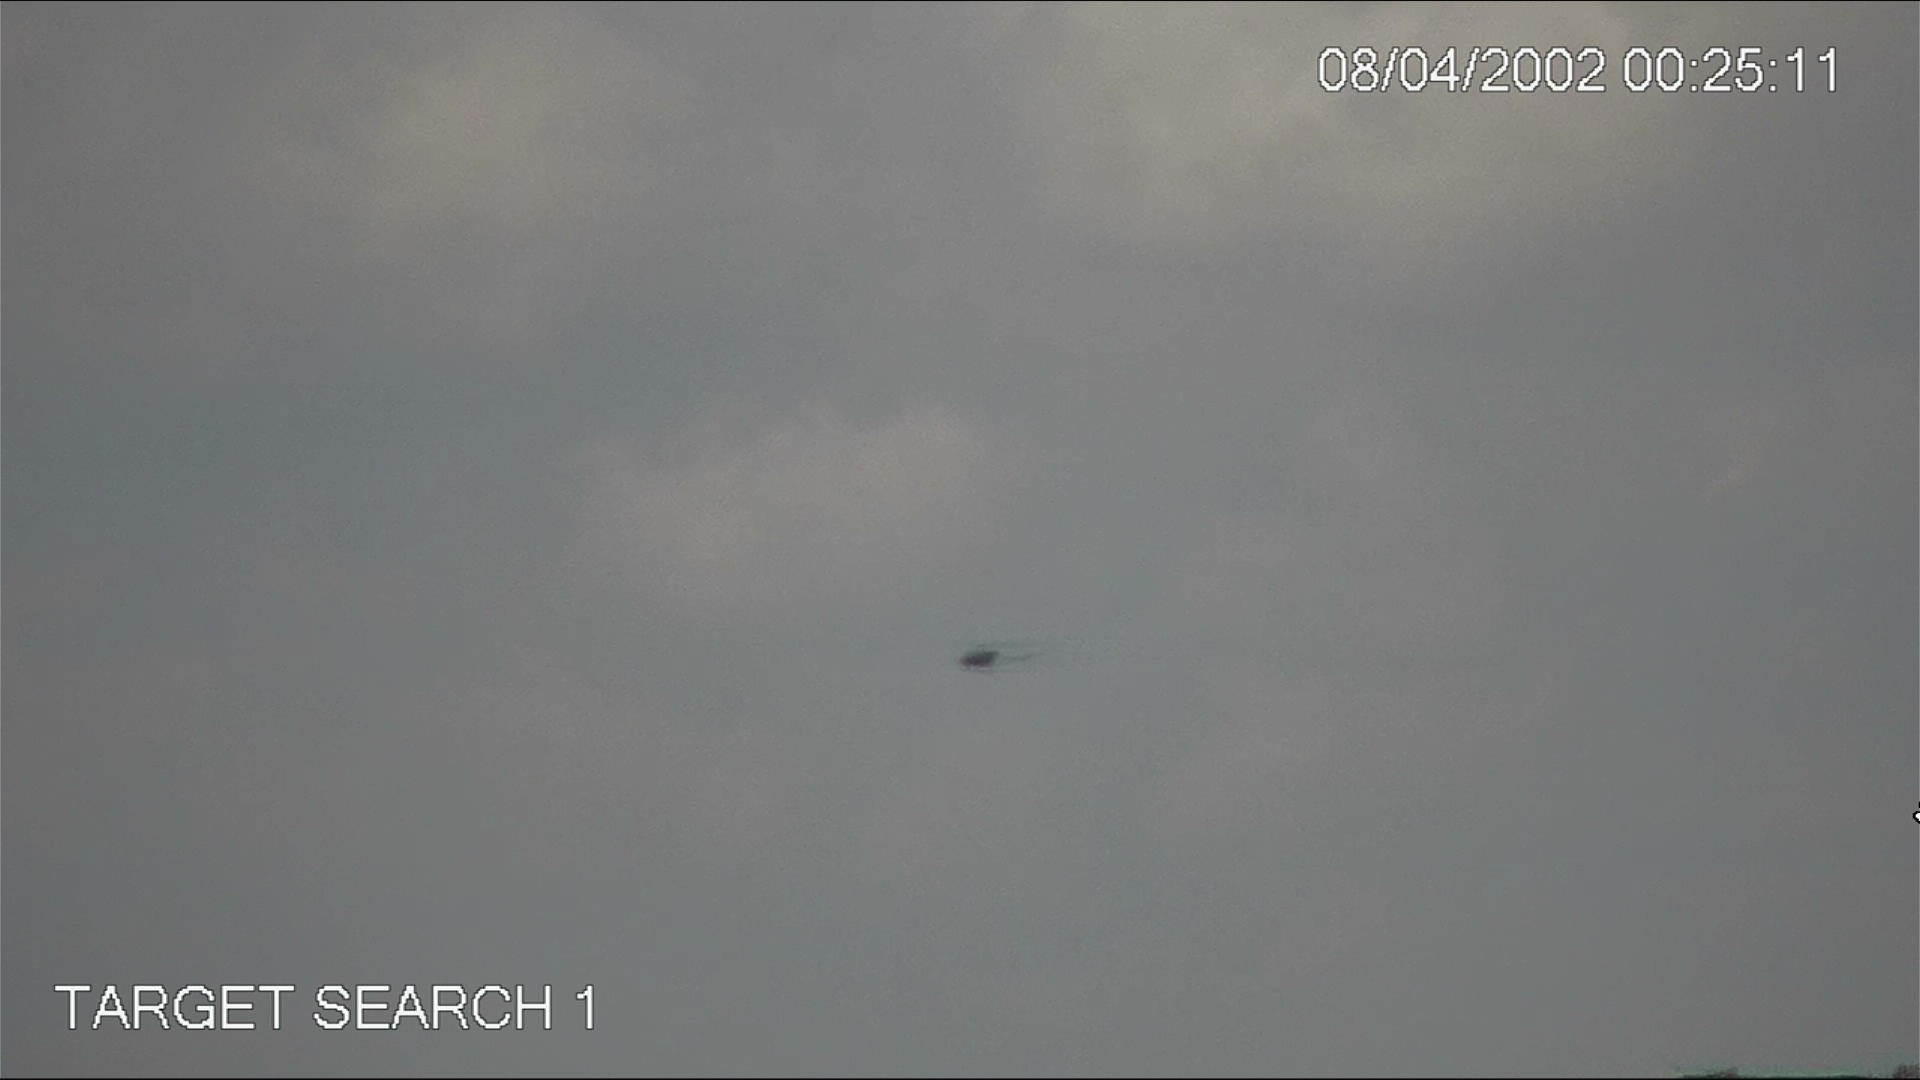SU_30: (956, 637, 1046, 679)
